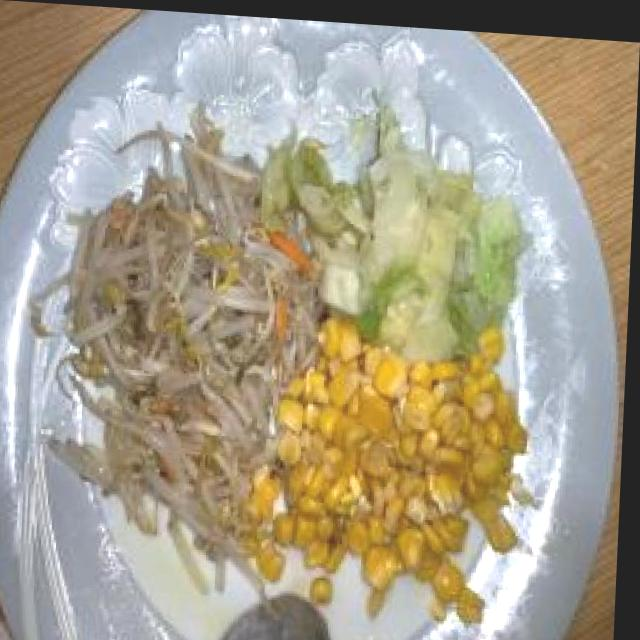chinese_cabbage: (304, 144, 526, 343)
mung_bean_sprouts: (68, 158, 290, 551)
